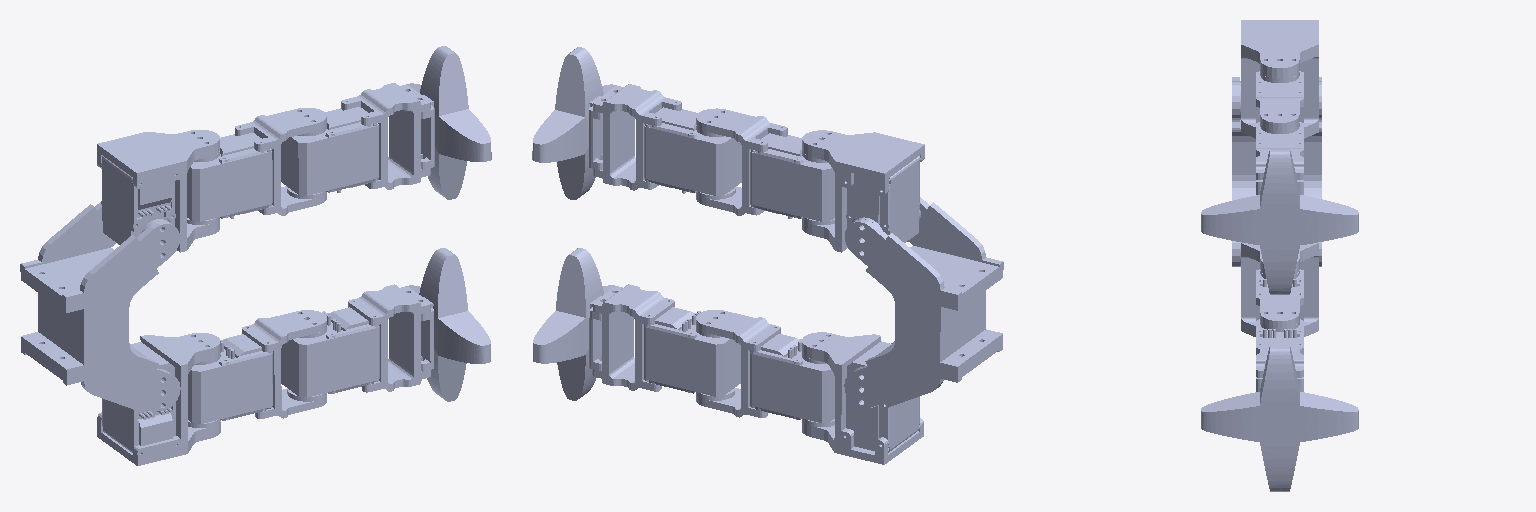
robot.urdf — Ensamble de pierna final_5:
<?xml version="1.0" encoding="utf-8"?>
<!-- This URDF was automatically created by SolidWorks to URDF Exporter! Originally created by Stephen Brawner (brawner@gmail.com) 
     Commit Version: 1.6.0-4-g7f85cfe  Build Version: 1.6.7995.38578
     For more information, please see http://wiki.ros.org/sw_urdf_exporter -->
<robot
  name="Ensamble de pierna final_5">
  <link
    name="base_link">
    <inertial>
      <origin
        xyz="0.015925 3.4694E-18 7.3249E-05"
        rpy="0 0 0" />
      <mass
        value="0.082493" />
      <inertia
        ixx="5.2472E-05"
        ixy="9.1764E-21"
        ixz="1.0787E-07"
        iyy="4.7915E-05"
        iyz="-2.3752E-20"
        izz="3.2322E-05" />
    </inertial>
    <visual>
      <origin
        xyz="0 0 0"
        rpy="0 0 0" />
      <geometry>
        <mesh
          filename="package://Ensamble de pierna final_5/meshes/base_link.STL" />
      </geometry>
      <material
        name="">
        <color
          rgba="0.79216 0.81961 0.93333 1" />
      </material>
    </visual>
    <collision>
      <origin
        xyz="0 0 0"
        rpy="0 0 0" />
      <geometry>
        <mesh
          filename="package://Ensamble de pierna final_5/meshes/base_link.STL" />
      </geometry>
    </collision>
  </link>
  <link
    name="link_right_hip">
    <inertial>
      <origin
        xyz="0.0058537 0.015285 0.00015947"
        rpy="0 0 0" />
      <mass
        value="0.056618" />
      <inertia
        ixx="1.8002E-05"
        ixy="1.7027E-06"
        ixz="4.3857E-08"
        iyy="1.0107E-05"
        iyz="-4.7843E-08"
        izz="1.7795E-05" />
    </inertial>
    <visual>
      <origin
        xyz="0 0 0"
        rpy="0 0 0" />
      <geometry>
        <mesh
          filename="package://Ensamble de pierna final_5/meshes/link_right_hip.STL" />
      </geometry>
      <material
        name="">
        <color
          rgba="0.79216 0.81961 0.93333 1" />
      </material>
    </visual>
    <collision>
      <origin
        xyz="0 0 0"
        rpy="0 0 0" />
      <geometry>
        <mesh
          filename="package://Ensamble de pierna final_5/meshes/link_right_hip.STL" />
      </geometry>
    </collision>
  </link>
  <joint
    name="joint_right_hip"
    type="revolute">
    <origin
      xyz="0.045367 0.0014 0.041357"
      rpy="1.5708 -0.0025308 0" />
    <parent
      link="base_link" />
    <child
      link="link_right_hip" />
    <axis
      xyz="0 0 1" />
    <limit
      lower="-0.5"
      upper="0.5"
      effort="2.942"
      velocity="4.71" />
  </joint>
  <link
    name="link_right_upper_leg">
    <inertial>
      <origin
        xyz="0.019625 -1.0625E-06 1.0346E-05"
        rpy="0 0 0" />
      <mass
        value="0.045892" />
      <inertia
        ixx="7.9589E-06"
        ixy="5.2936E-13"
        ixz="-2.3578E-08"
        iyy="1.2729E-05"
        iyz="-3.9569E-13"
        izz="9.1733E-06" />
    </inertial>
    <visual>
      <origin
        xyz="0 0 0"
        rpy="0 0 0" />
      <geometry>
        <mesh
          filename="package://Ensamble de pierna final_5/meshes/link_right_upper_leg.STL" />
      </geometry>
      <material
        name="">
        <color
          rgba="0.79216 0.81961 0.93333 1" />
      </material>
    </visual>
    <collision>
      <origin
        xyz="0 0 0"
        rpy="0 0 0" />
      <geometry>
        <mesh
          filename="package://Ensamble de pierna final_5/meshes/link_right_upper_leg.STL" />
      </geometry>
    </collision>
  </link>
  <joint
    name="joint_right_upper_leg"
    type="revolute">
    <origin
      xyz="0.0354 0.0143 0"
      rpy="-1.5708 0 0" />
    <parent
      link="link_right_hip" />
    <child
      link="link_right_upper_leg" />
    <axis
      xyz="0 0 1" />
    <limit
      lower="-0.5"
      upper="0.5"
      effort="2.942"
      velocity="4.71" />
  </joint>
  <link
    name="link_right_lower_leg">
    <inertial>
      <origin
        xyz="0.022125 1.3477E-06 -5.6548E-06"
        rpy="0 0 0" />
      <mass
        value="0.049475" />
      <inertia
        ixx="8.4659E-06"
        ixy="-5.2936E-13"
        ixz="2.7449E-08"
        iyy="1.3126E-05"
        iyz="-3.9569E-13"
        izz="9.5561E-06" />
    </inertial>
    <visual>
      <origin
        xyz="0 0 0"
        rpy="0 0 0" />
      <geometry>
        <mesh
          filename="package://Ensamble de pierna final_5/meshes/link_right_lower_leg.STL" />
      </geometry>
      <material
        name="">
        <color
          rgba="0.79216 0.81961 0.93333 1" />
      </material>
    </visual>
    <collision>
      <origin
        xyz="0 0 0"
        rpy="0 0 0" />
      <geometry>
        <mesh
          filename="package://Ensamble de pierna final_5/meshes/link_right_lower_leg.STL" />
      </geometry>
    </collision>
  </link>
  <joint
    name="joint_right_lower_leg"
    type="revolute">
    <origin
      xyz="0.0612 0 -0.000205"
      rpy="-3.1416 0 0" />
    <parent
      link="link_right_upper_leg" />
    <child
      link="link_right_lower_leg" />
    <axis
      xyz="0 0 1" />
    <limit
      lower="-0.5"
      upper="0.5"
      effort="2.942"
      velocity="4.71" />
  </joint>
  <link
    name="link_right_foot">
    <inertial>
      <origin
        xyz="-0.0096414 -2.2772E-09 -9.8182E-09"
        rpy="0 0 0" />
      <mass
        value="0.037428" />
      <inertia
        ixx="1.5647E-05"
        ixy="-2.2034E-14"
        ixz="9.2718E-13"
        iyy="8.6757E-06"
        iyz="1.5418E-12"
        izz="8.4184E-06" />
    </inertial>
    <visual>
      <origin
        xyz="0 0 0"
        rpy="0 0 0" />
      <geometry>
        <mesh
          filename="package://Ensamble de pierna final_5/meshes/link_right_foot.STL" />
      </geometry>
      <material
        name="">
        <color
          rgba="0.79216 0.81961 0.93333 1" />
      </material>
    </visual>
    <collision>
      <origin
        xyz="0 0 0"
        rpy="0 0 0" />
      <geometry>
        <mesh
          filename="package://Ensamble de pierna final_5/meshes/link_right_foot.STL" />
      </geometry>
    </collision>
  </link>
  <joint
    name="joint_right_foot"
    type="fixed">
    <origin
      xyz="0.0871 0 0"
      rpy="0 0 0" />
    <parent
      link="link_right_lower_leg" />
    <child
      link="link_right_foot" />
    <axis
      xyz="0 0 0" />
    <limit
      lower="-0.5"
      effort="0"
      velocity="0" />
  </joint>
  <link
    name="link_left_hip">
    <inertial>
      <origin
        xyz="0.0058537 -0.015285 0.00015947"
        rpy="0 0 0" />
      <mass
        value="0.056618" />
      <inertia
        ixx="1.8002E-05"
        ixy="-1.7026E-06"
        ixz="4.3856E-08"
        iyy="1.0107E-05"
        iyz="4.7841E-08"
        izz="1.7795E-05" />
    </inertial>
    <visual>
      <origin
        xyz="0 0 0"
        rpy="0 0 0" />
      <geometry>
        <mesh
          filename="package://Ensamble de pierna final_5/meshes/link_left_hip.STL" />
      </geometry>
      <material
        name="">
        <color
          rgba="0.79216 0.81961 0.93333 1" />
      </material>
    </visual>
    <collision>
      <origin
        xyz="0 0 0"
        rpy="0 0 0" />
      <geometry>
        <mesh
          filename="package://Ensamble de pierna final_5/meshes/link_left_hip.STL" />
      </geometry>
    </collision>
  </link>
  <joint
    name="joint_left_hip"
    type="revolute">
    <origin
      xyz="0.045575 0.0014 -0.041126"
      rpy="1.5708 -0.0025308 0" />
    <parent
      link="base_link" />
    <child
      link="link_left_hip" />
    <axis
      xyz="0 0 1" />
    <limit
      lower="-0.5"
      upper="0.5"
      effort="2.942"
      velocity="4.71" />
  </joint>
  <link
    name="link_left_upper_leg">
    <inertial>
      <origin
        xyz="0.019625 -1.0608E-06 -1.0346E-05"
        rpy="0 0 0" />
      <mass
        value="0.045892" />
      <inertia
        ixx="7.9589E-06"
        ixy="-5.2951E-13"
        ixz="2.3578E-08"
        iyy="1.2729E-05"
        iyz="-3.9551E-13"
        izz="9.1733E-06" />
    </inertial>
    <visual>
      <origin
        xyz="0 0 0"
        rpy="0 0 0" />
      <geometry>
        <mesh
          filename="package://Ensamble de pierna final_5/meshes/link_left_upper_leg.STL" />
      </geometry>
      <material
        name="">
        <color
          rgba="0.79216 0.81961 0.93333 1" />
      </material>
    </visual>
    <collision>
      <origin
        xyz="0 0 0"
        rpy="0 0 0" />
      <geometry>
        <mesh
          filename="package://Ensamble de pierna final_5/meshes/link_left_upper_leg.STL" />
      </geometry>
    </collision>
  </link>
  <joint
    name="joint_left_upper_leg"
    type="revolute">
    <origin
      xyz="0.0354 -0.0143 0"
      rpy="-1.5708 0 0" />
    <parent
      link="link_left_hip" />
    <child
      link="link_left_upper_leg" />
    <axis
      xyz="0 0 1" />
    <limit
      lower="-0.5"
      upper="0.5"
      effort="2.942"
      velocity="4.71" />
  </joint>
  <link
    name="link_left_lower_leg">
    <inertial>
      <origin
        xyz="0.022125 1.3461E-06 5.6548E-06"
        rpy="0 0 0" />
      <mass
        value="0.049475" />
      <inertia
        ixx="8.4659E-06"
        ixy="5.2951E-13"
        ixz="-2.7449E-08"
        iyy="1.3126E-05"
        iyz="-3.9551E-13"
        izz="9.5561E-06" />
    </inertial>
    <visual>
      <origin
        xyz="0 0 0"
        rpy="0 0 0" />
      <geometry>
        <mesh
          filename="package://Ensamble de pierna final_5/meshes/link_left_lower_leg.STL" />
      </geometry>
      <material
        name="">
        <color
          rgba="0.79216 0.81961 0.93333 1" />
      </material>
    </visual>
    <collision>
      <origin
        xyz="0 0 0"
        rpy="0 0 0" />
      <geometry>
        <mesh
          filename="package://Ensamble de pierna final_5/meshes/link_left_lower_leg.STL" />
      </geometry>
    </collision>
  </link>
  <joint
    name="joint_left_lower_leg"
    type="revolute">
    <origin
      xyz="0.0612 0 0.000205"
      rpy="3.1416 0 0" />
    <parent
      link="link_left_upper_leg" />
    <child
      link="link_left_lower_leg" />
    <axis
      xyz="0 0 1" />
    <limit
      lower="-0.5"
      upper="0.5"
      effort="2.942"
      velocity="4.71" />
  </joint>
  <link
    name="link_left_foot">
    <inertial>
      <origin
        xyz="-0.0096414 -1.3835E-08 -9.6462E-08"
        rpy="0 0 0" />
      <mass
        value="0.037428" />
      <inertia
        ixx="1.5647E-05"
        ixy="5.444E-13"
        ixz="3.4681E-12"
        iyy="8.6756E-06"
        iyz="1.522E-11"
        izz="8.4184E-06" />
    </inertial>
    <visual>
      <origin
        xyz="0 0 0"
        rpy="0 0 0" />
      <geometry>
        <mesh
          filename="package://Ensamble de pierna final_5/meshes/link_left_foot.STL" />
      </geometry>
      <material
        name="">
        <color
          rgba="0.79216 0.81961 0.93333 1" />
      </material>
    </visual>
    <collision>
      <origin
        xyz="0 0 0"
        rpy="0 0 0" />
      <geometry>
        <mesh
          filename="package://Ensamble de pierna final_5/meshes/link_left_foot.STL" />
      </geometry>
    </collision>
  </link>
  <joint
    name="link_left_foot"
    type="fixed">
    <origin
      xyz="0.0865000000000001 0 0"
      rpy="0 0 0" />
    <parent
      link="link_left_lower_leg" />
    <child
      link="link_left_foot" />
    <axis
      xyz="0 0 0" />
    <limit
      lower="0"
      upper="0"
      effort="0"
      velocity="4.71" />
  </joint>
</robot>

--- What the picture shows (computed from the rendered views, not written in the file) ---
3 views of the same robot in one strip: view 1: azimuth 30°, elevation 25°; view 2: azimuth 150°, elevation 25°; view 3: azimuth 270°, elevation 25° (orthographic).
Model Ensamble de pierna final_5 with 9 links and 8 joints (6 revolute, 2 fixed), rooted at base_link, posed all joints at 0.
Visible links, largest first — view 1: base_link, link_right_lower_leg, link_left_lower_leg, link_right_hip, link_right_upper_leg, link_left_upper_leg, link_left_hip, link_right_foot, link_left_foot; view 2: base_link, link_right_lower_leg, link_left_lower_leg, link_right_hip, link_left_upper_leg, link_right_upper_leg, link_left_hip, link_right_foot, link_left_foot; view 3: link_right_foot, link_left_foot, link_right_hip, base_link, link_left_hip, link_right_upper_leg, link_left_upper_leg, link_right_lower_leg, link_left_lower_leg.
Boxes of the visible links, x1,y1,x2,y2 form: base_link: (20, 202, 180, 410); link_right_lower_leg: (281, 83, 430, 198); link_left_lower_leg: (281, 284, 430, 401); link_right_hip: (97, 130, 219, 252); link_right_upper_leg: (187, 108, 326, 224); link_left_upper_leg: (188, 310, 326, 427); link_left_hip: (97, 333, 220, 465); link_right_foot: (406, 46, 491, 199); link_left_foot: (405, 248, 490, 401); base_link: (844, 197, 1003, 408); link_right_lower_leg: (593, 84, 741, 199); link_left_lower_leg: (592, 284, 740, 400); link_right_hip: (802, 130, 924, 252); link_left_upper_leg: (696, 310, 834, 426); link_right_upper_leg: (696, 108, 834, 224); link_left_hip: (802, 332, 923, 464); link_right_foot: (532, 47, 616, 199); link_left_foot: (533, 248, 615, 400); link_right_foot: (1201, 149, 1358, 294); link_left_foot: (1201, 346, 1358, 491); link_right_hip: (1240, 20, 1318, 138); base_link: (1232, 77, 1321, 266); link_left_hip: (1240, 242, 1318, 336); link_right_upper_leg: (1256, 71, 1303, 129); link_left_upper_leg: (1256, 269, 1303, 327); link_right_lower_leg: (1256, 122, 1303, 179); link_left_lower_leg: (1256, 319, 1303, 377).
Size in the robot's own frame: 0.2391 by 0.08 by 0.1907 metres.
9 mesh visuals loaded from 9 distinct referenced files (9 binary STL).
